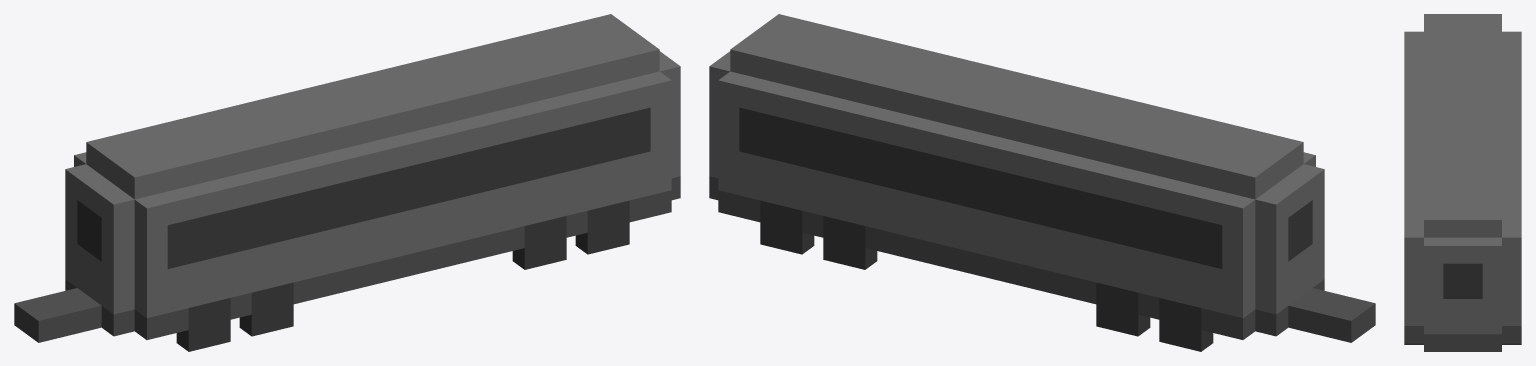
Rendered from train-trailer-v5-grey.gltf.
3 views of the same model, side by side, from view 1: azimuth 30°, elevation 25°; view 2: azimuth 150°, elevation 25°; view 3: azimuth 270°, elevation 25° (orthographic). The views are drawn at different scales.
Parts seen in each view (by area): view 1: model, wheels; view 2: model, wheels; view 3: model.
Part boxes in pixels (x1,y1,x2,y2): model: (14, 14, 680, 342); wheels: (176, 200, 629, 351); model: (709, 14, 1375, 342); wheels: (760, 200, 1213, 351); model: (1404, 14, 1521, 351).
Size of the model in its own units: 3 by 0.8 by 0.6.
2 materials, 2 textured.
